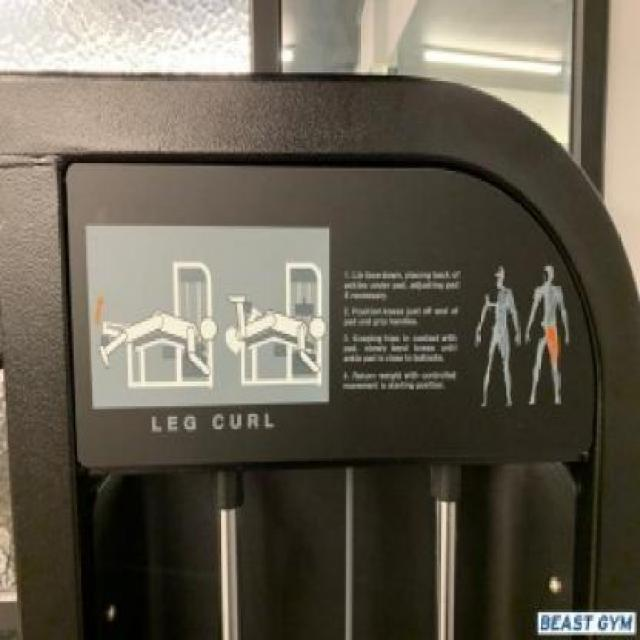reg curl machine: (86, 251, 219, 397), (222, 248, 326, 397)
